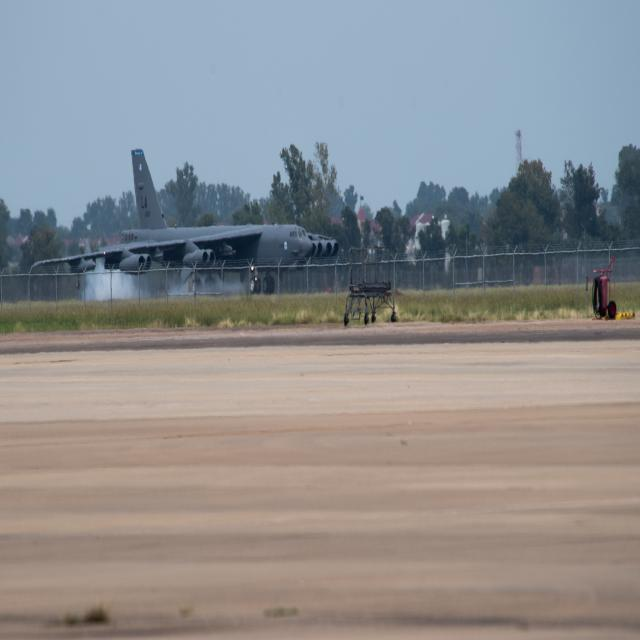MIL_Plane: (126, 129, 244, 276)
